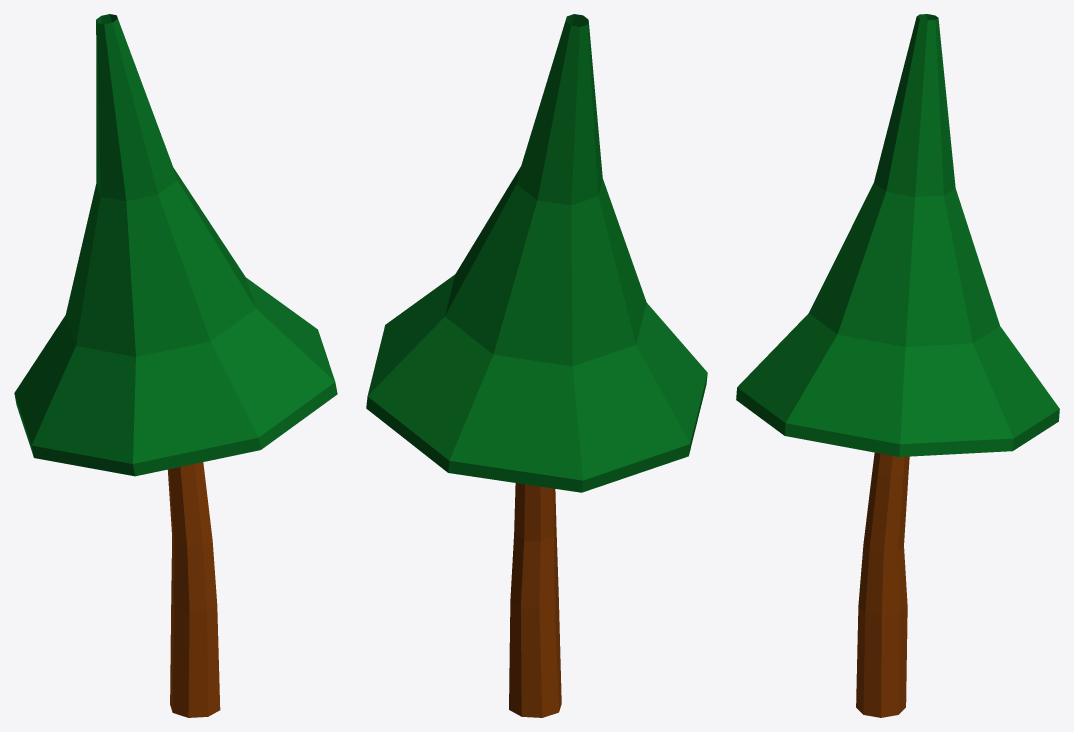
File: SproutPineTree.glb
The picture shows the model from 3 angles, left to right: view 1: azimuth 30°, elevation 25°; view 2: azimuth 150°, elevation 25°; view 3: azimuth 270°, elevation 25°; orthographic projection. The views are drawn at different scales.
Parts seen in each view (by area): view 1: Circle.001; view 2: Circle.001; view 3: Circle.001.
Boxes of the visible parts, <box> form: Circle.001: <box>14,14,337,717</box>; Circle.001: <box>366,14,707,717</box>; Circle.001: <box>736,14,1059,717</box>.
Size of the model in its own units: 4.41 by 10 by 4.43.
